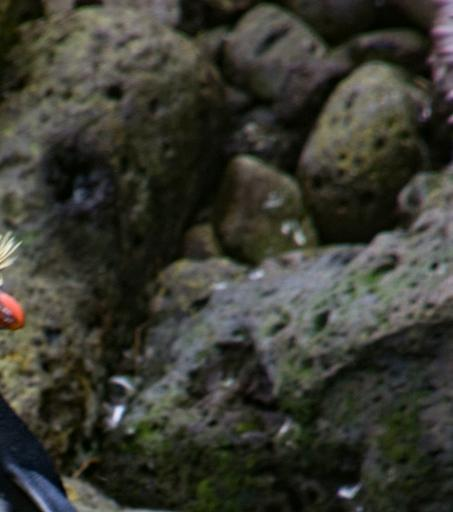Southern Rockhopper Penguin: (0, 190, 163, 512)
